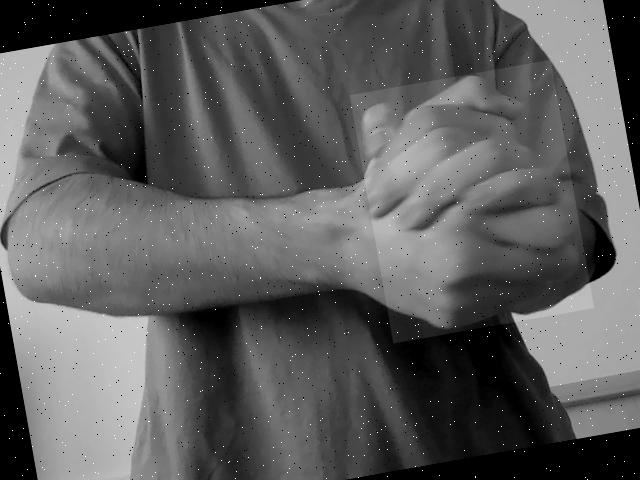friend: (350, 60, 594, 343)
